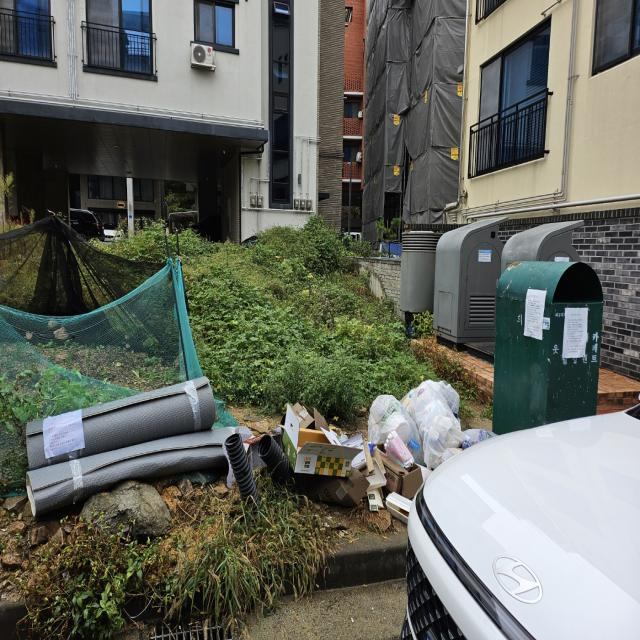CleanNet: (432, 214, 502, 344)
General Waste: (284, 384, 445, 500)
Large Waste Items: (25, 377, 217, 466), (28, 437, 225, 502)
